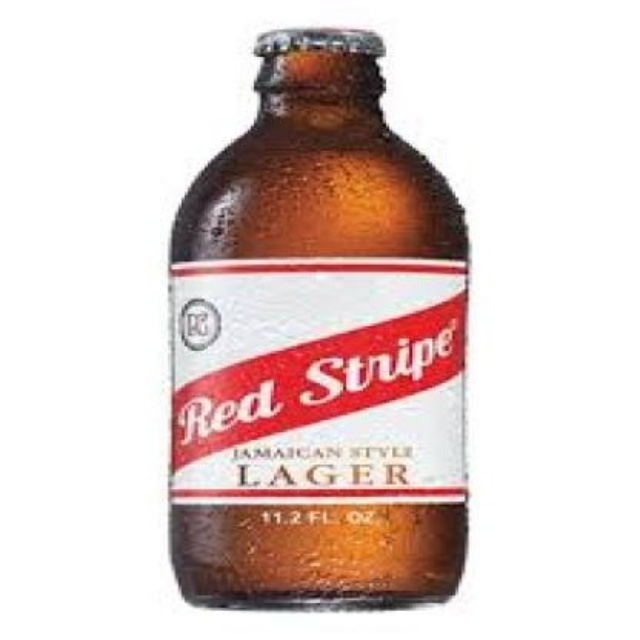trash: (169, 28, 466, 605)
